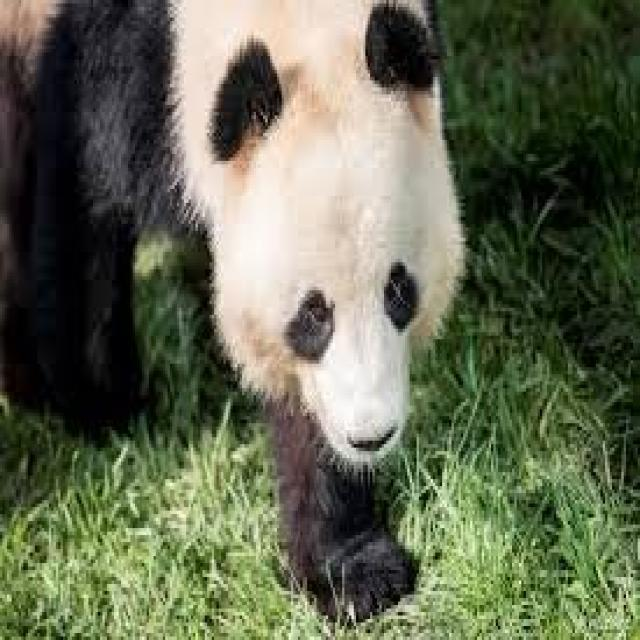Panda: (0, 4, 469, 626)
